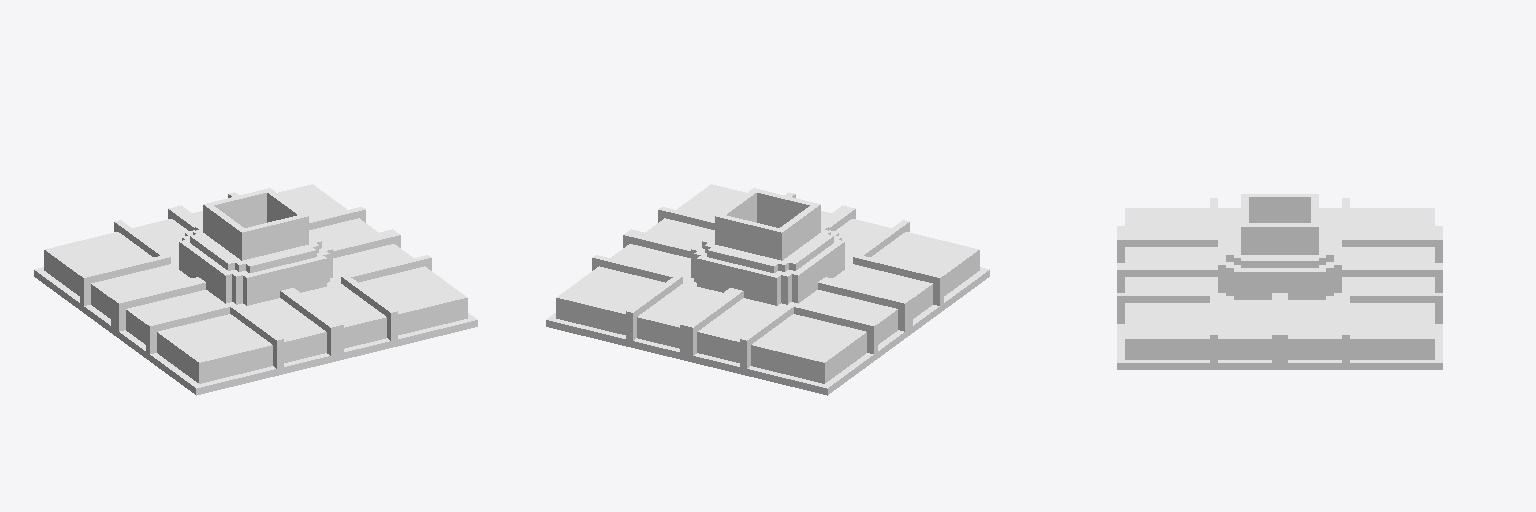
The model's file is MejoraKanyon-0.obj.
3 renders of one model, left to right at view 1: azimuth 30°, elevation 25°; view 2: azimuth 150°, elevation 25°; view 3: azimuth 270°, elevation 25°, orthographic.
Parts seen in each view (by area): view 1: object 1; view 2: object 1; view 3: object 1.
Boxes of the visible parts, <box> form: object 1: <box>34,184,477,395</box>; object 1: <box>546,184,989,395</box>; object 1: <box>1117,194,1442,369</box>.
Size of the model in its own units: 4.2 by 1.3 by 4.2.